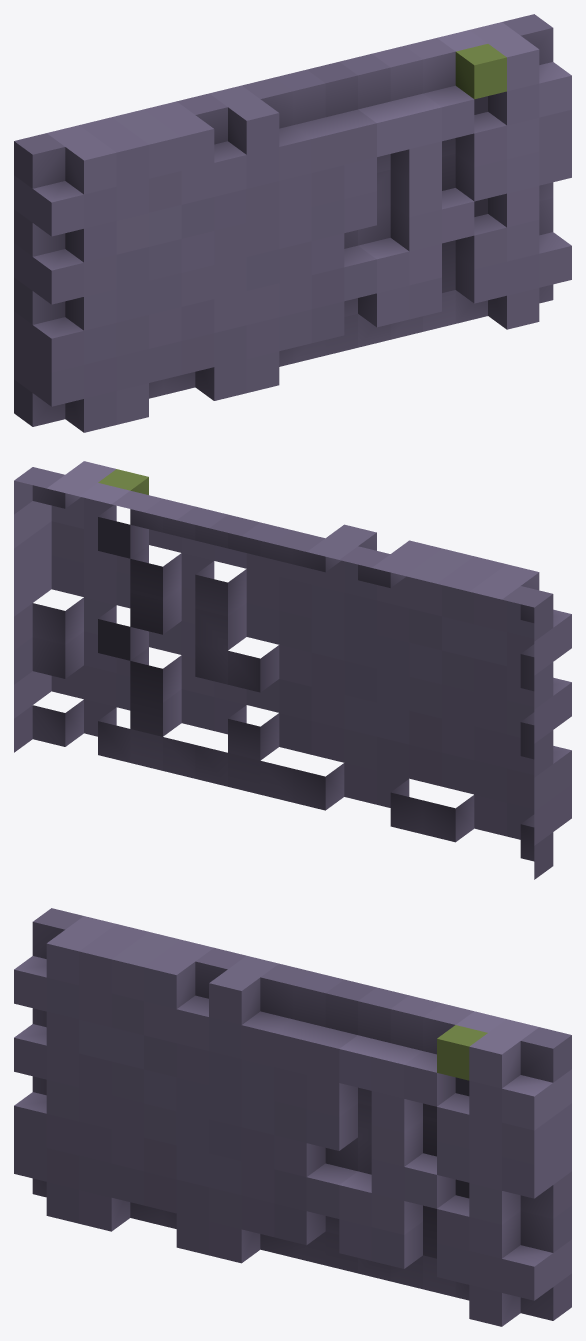
File: ashlar_plain_1.glb
3 views of the same model, one above another, from view 1: azimuth 30°, elevation 25°; view 2: azimuth 150°, elevation 25°; view 3: azimuth 330°, elevation 25° (orthographic).
Visible parts, largest first — view 1: ashlar_plain_1; view 2: ashlar_plain_1; view 3: ashlar_plain_1.
Part boxes in pixels (<box>): ashlar_plain_1: <box>14,14,571,432</box>; ashlar_plain_1: <box>14,461,571,879</box>; ashlar_plain_1: <box>14,908,571,1326</box>.
Size of the model in its own units: 1 by 0.5 by 0.125.
